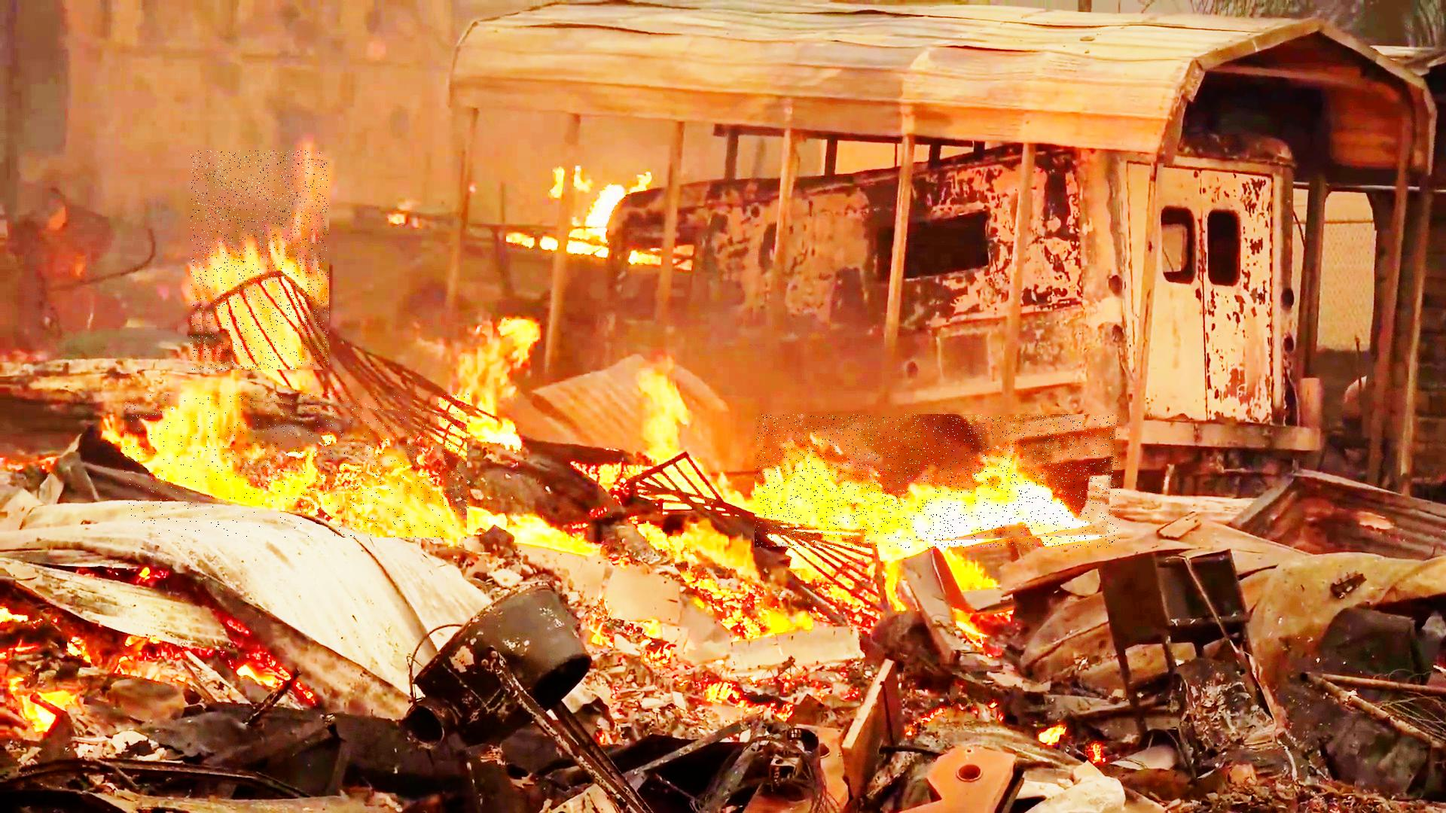fire: (125, 394, 469, 538), (755, 414, 1121, 548), (191, 151, 329, 370)
